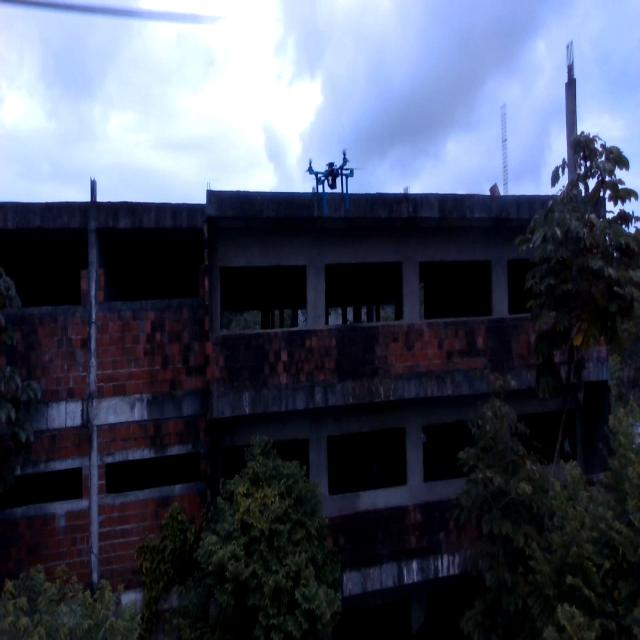-uav-: (297, 141, 360, 218)
